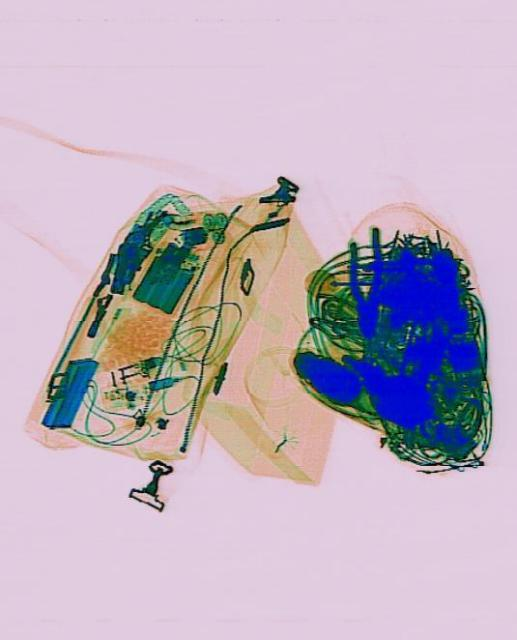Pliers: (343, 227, 385, 339)
